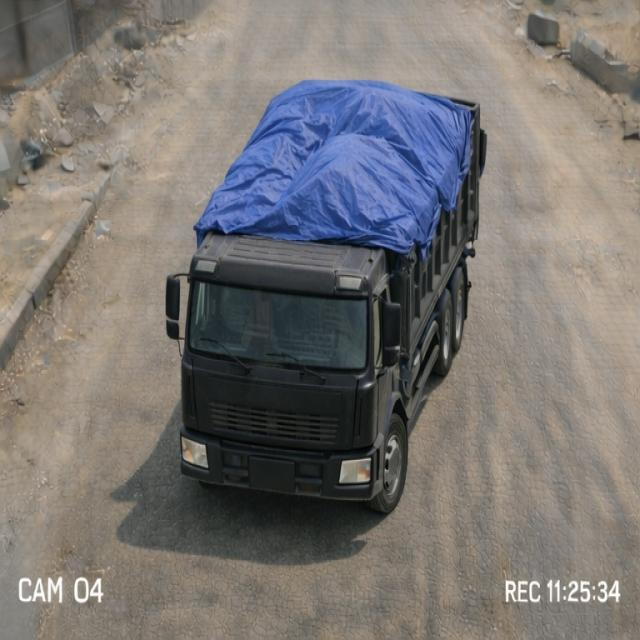trailer: (196, 78, 485, 242)
truck: (164, 70, 491, 508)
